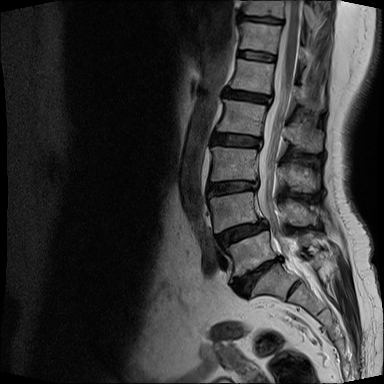Degenerative Disc Disease (DDD): (216, 82, 277, 111)
Lumbar Disc Bulge (LDB): (224, 248, 286, 307), (210, 211, 275, 254), (201, 170, 266, 203)
Normal IVD: (206, 125, 265, 153), (233, 46, 279, 67), (233, 12, 287, 29)
